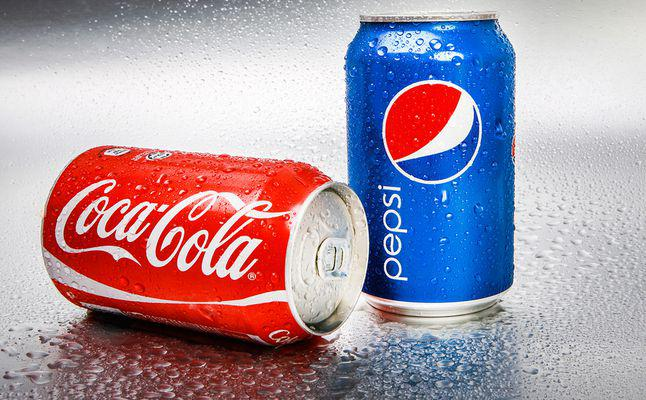coke: (46, 148, 351, 349)
